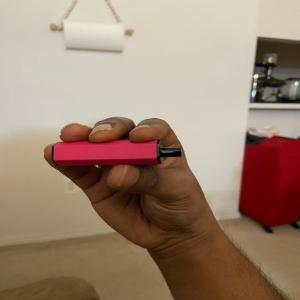Blume-E-Ciggirate: (46, 138, 188, 168)
